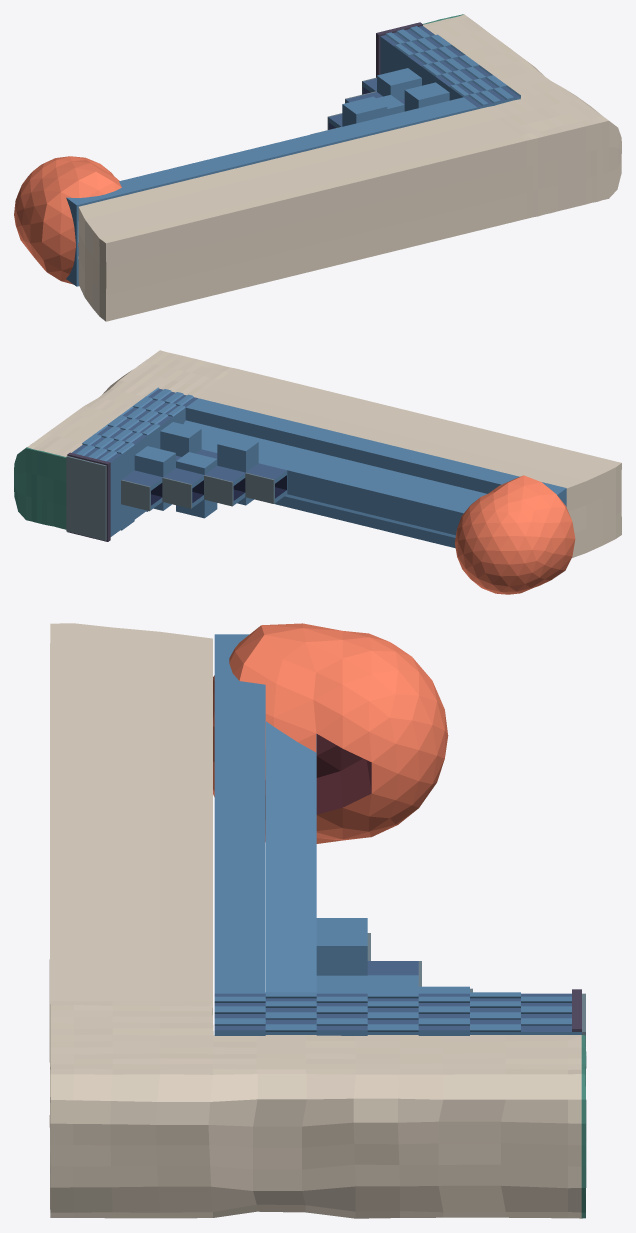
File: contra_level_5_ground.fbx
The picture shows the model from 3 angles, top to bottom: view 1: azimuth 30°, elevation 25°; view 2: azimuth 150°, elevation 25°; view 3: azimuth 270°, elevation 25°; orthographic projection. The views are drawn at different scales.
Parts seen in each view (by area): view 1: HugeCliff, HugePlatform, Lv5Exit; view 2: HugePlatform, HugeCliff, Lv5Exit; view 3: HugeCliff, HugePlatform, Lv5Exit.
Boxes of the visible parts, x1=… form: HugeCliff: x1=78, y1=14, x2=621, y2=321; HugePlatform: x1=66, y1=22, x2=520, y2=286; Lv5Exit: x1=14, y1=156, x2=121, y2=284; HugePlatform: x1=66, y1=387, x2=566, y2=548; HugeCliff: x1=14, y1=350, x2=621, y2=557; Lv5Exit: x1=455, y1=475, x2=575, y2=594; HugeCliff: x1=49, y1=623, x2=586, y2=1218; HugePlatform: x1=214, y1=634, x2=585, y2=1046; Lv5Exit: x1=213, y1=623, x2=448, y2=843.
Size of the model in its own units: 33651 by 6931 by 16254.
